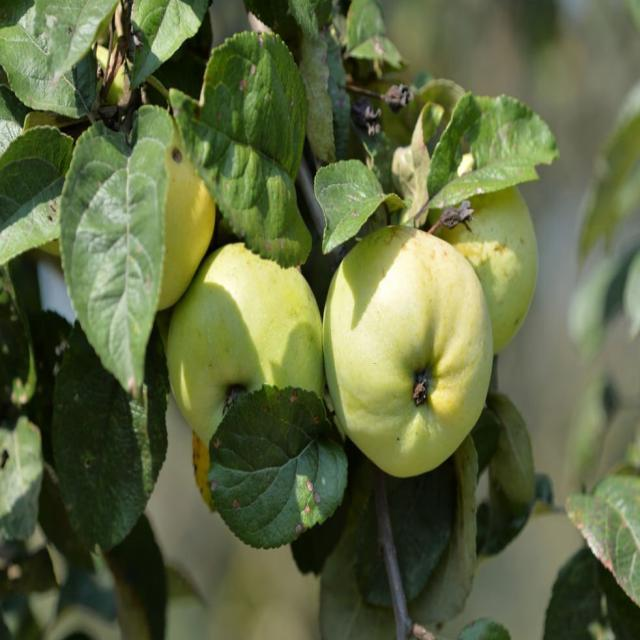Green Apple: (325, 237, 488, 460), (180, 247, 329, 460), (416, 166, 540, 327), (131, 134, 227, 307)
